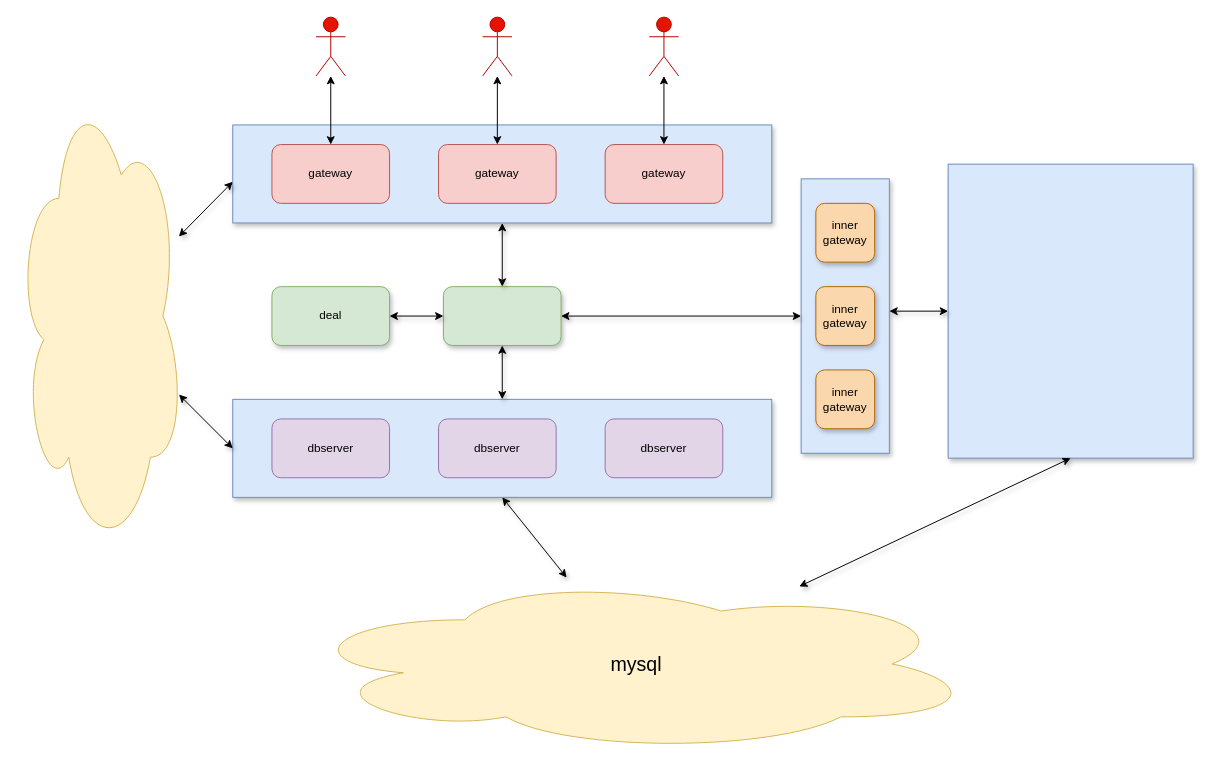
This 1216x769 diagram has some shape labels left out. Each missing label, with the centre of its shape:
game1: the point at 503,317
redis: the point at 100,315
后台服务: the point at 1071,312
